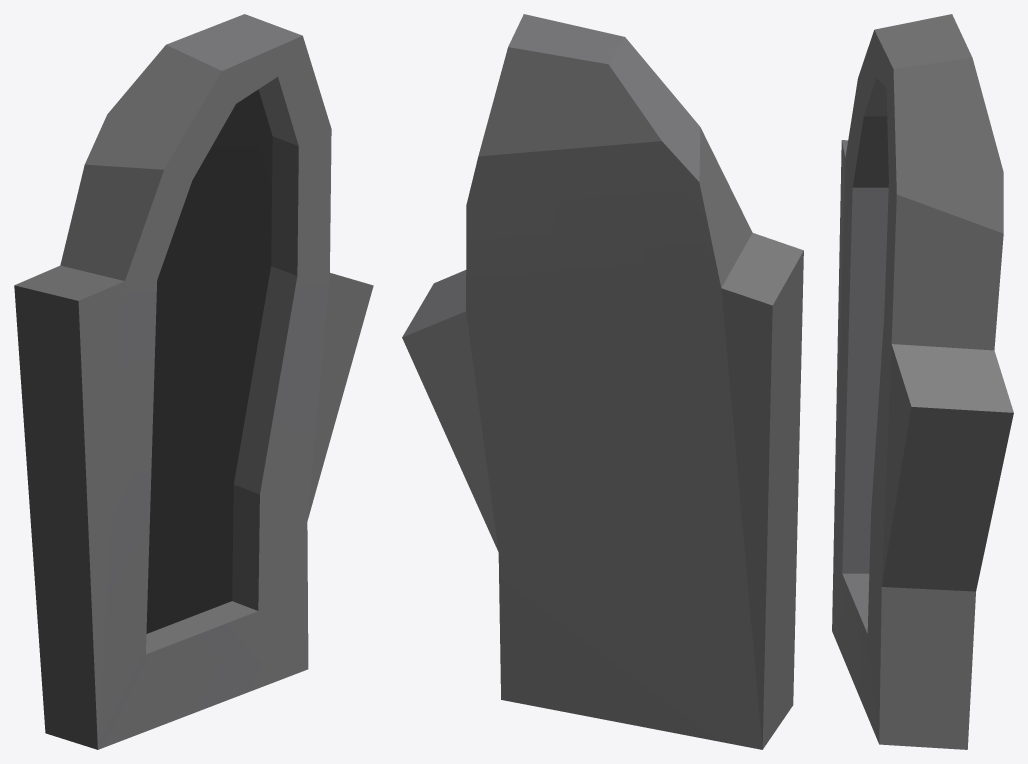
File: ea_grave_stone_mini_01b_pre__2__lev1.glb
3 renders of one model, left to right at view 1: azimuth 30°, elevation 25°; view 2: azimuth 150°, elevation 25°; view 3: azimuth 270°, elevation 25°, orthographic. The views are drawn at different scales.
Parts seen in each view (by area): view 1: ea_grave_stone_mini_01b_pre__2__lev1; view 2: ea_grave_stone_mini_01b_pre__2__lev1; view 3: ea_grave_stone_mini_01b_pre__2__lev1.
Part boxes in pixels (box(x1,y1,x2,y2)): ea_grave_stone_mini_01b_pre__2__lev1: box(14, 14, 373, 749); ea_grave_stone_mini_01b_pre__2__lev1: box(402, 14, 803, 749); ea_grave_stone_mini_01b_pre__2__lev1: box(832, 14, 1013, 749).
Bounding box in the file's own units: 0.8117 × 1.46 × 0.3451.
Materials: 1 (1 with a texture image).
